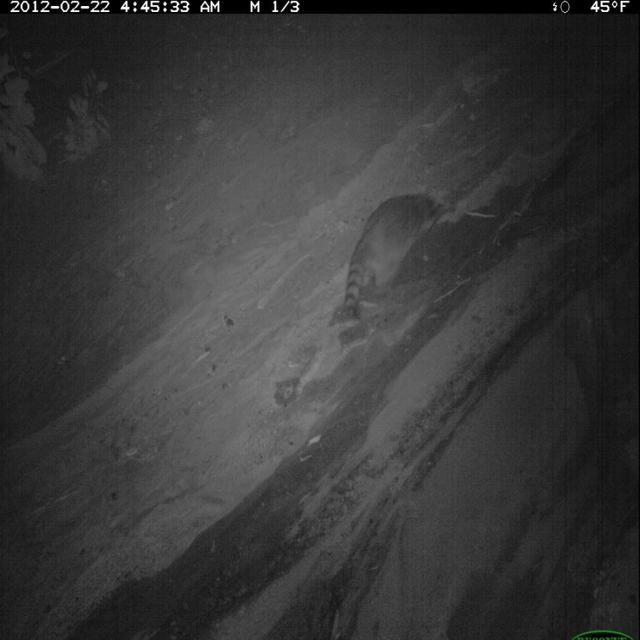raccoon: (338, 190, 444, 325)
